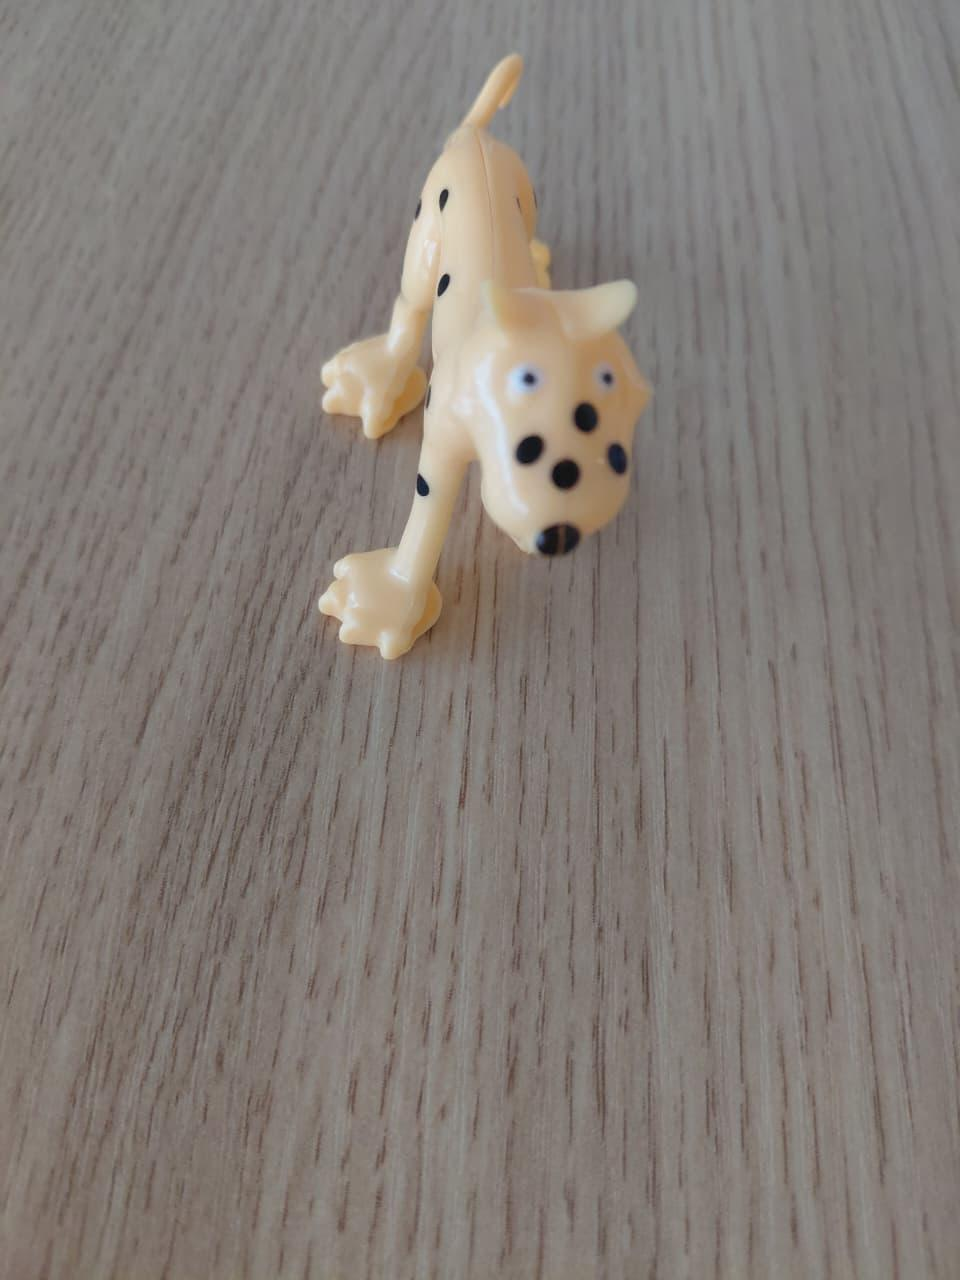cheetah: (223, 33, 730, 729)
